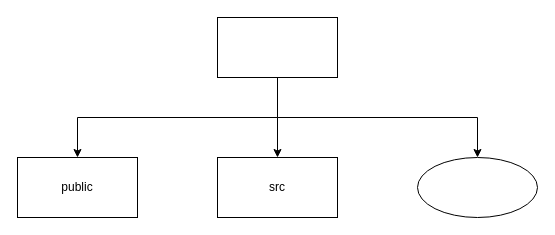
The diagram is 555 pixels wide and 235 high, and some of its shapes have lost their labels. The shapes that lost their labels are listed below. From the top down, each one's box as (x1, y1, x2, y2) in pixels, then its label:
(216, 16, 338, 78): Sumvision
(416, 156, 538, 218): other
